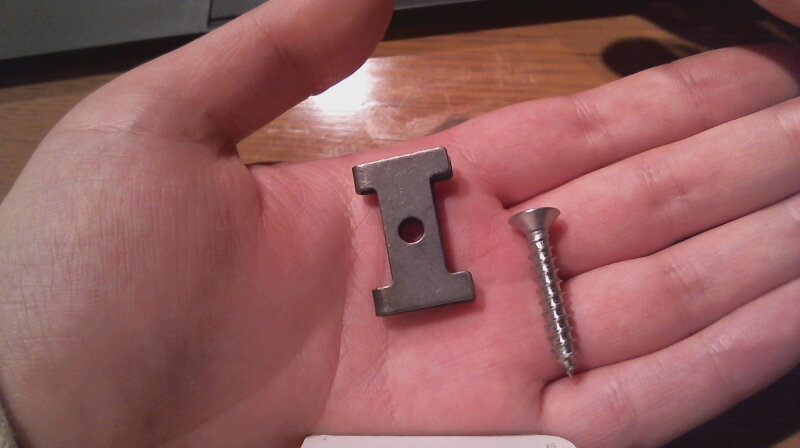O002: (344, 143, 477, 318)
S001: (505, 205, 585, 382)
